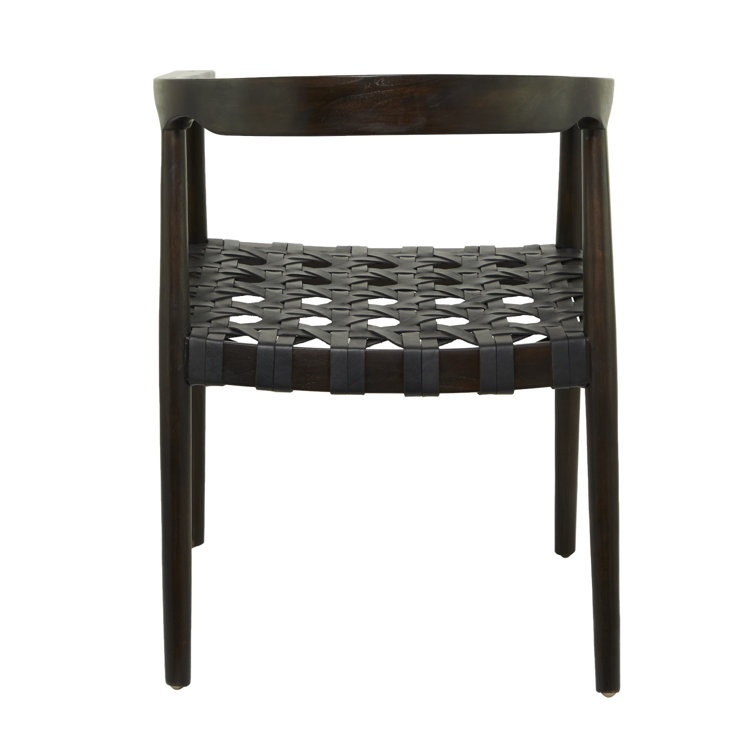obstacle: (154, 72, 619, 694)
